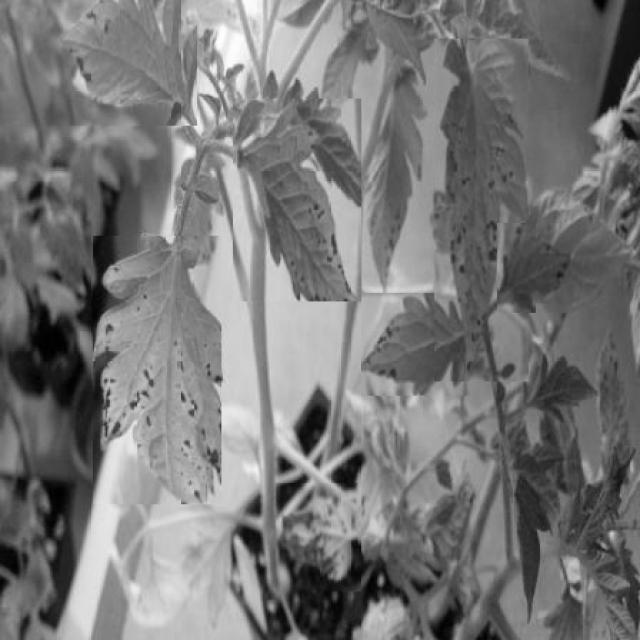Septoria: (94, 236, 222, 504), (434, 39, 529, 382), (233, 98, 361, 302), (47, 0, 197, 126), (360, 294, 483, 396), (276, 482, 360, 592), (498, 223, 571, 313)
